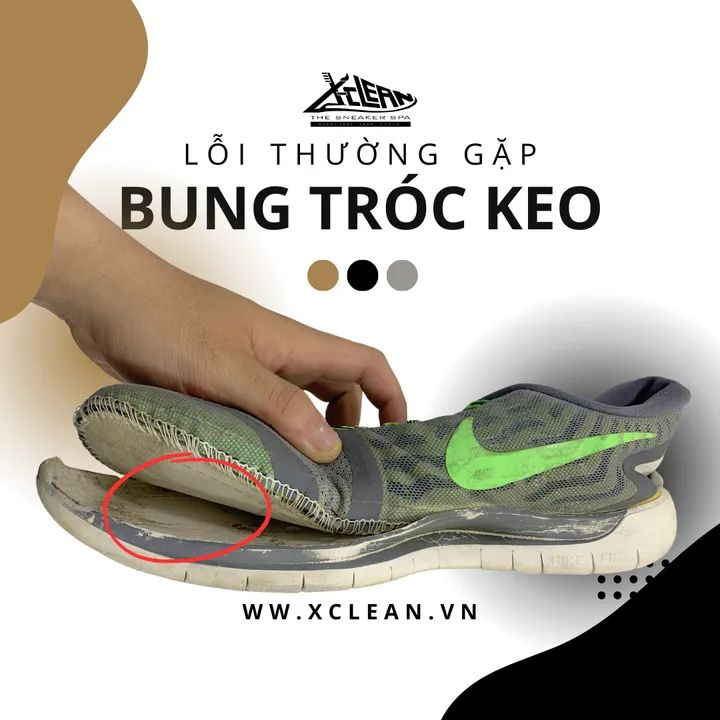bonding: (42, 410, 351, 564)
